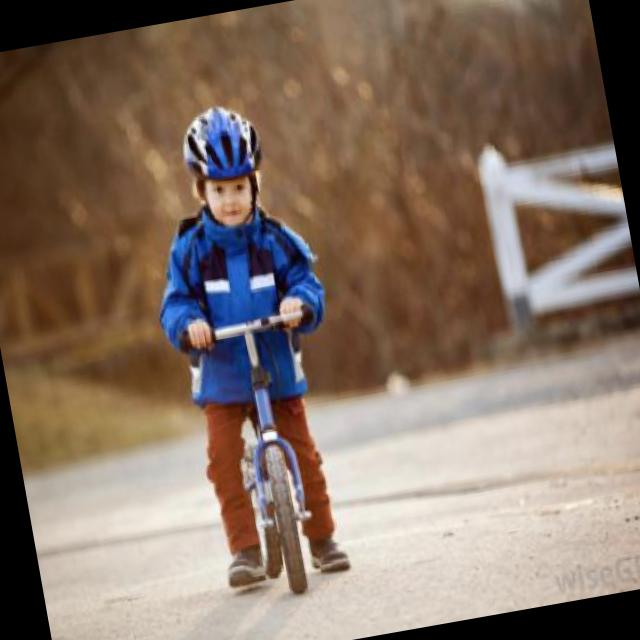With Helmet: (175, 92, 280, 240)
